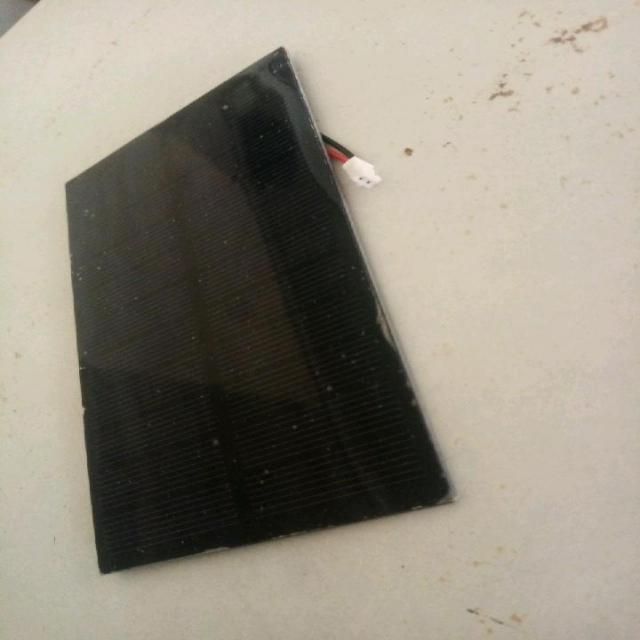no faulty: (73, 58, 453, 563)
